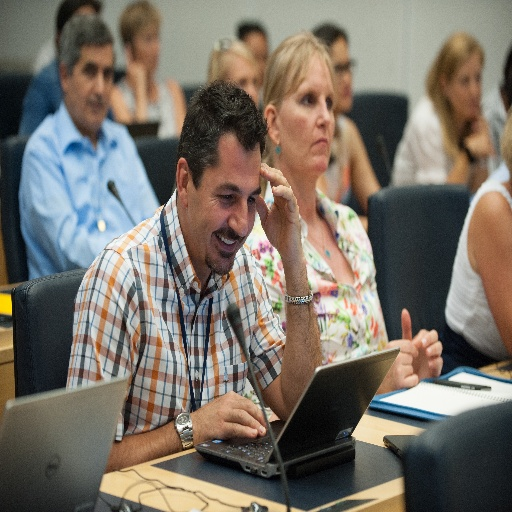hand: (254, 160, 303, 260), (201, 398, 263, 455), (401, 306, 443, 379), (376, 336, 417, 393), (464, 129, 495, 160), (126, 47, 143, 92)
